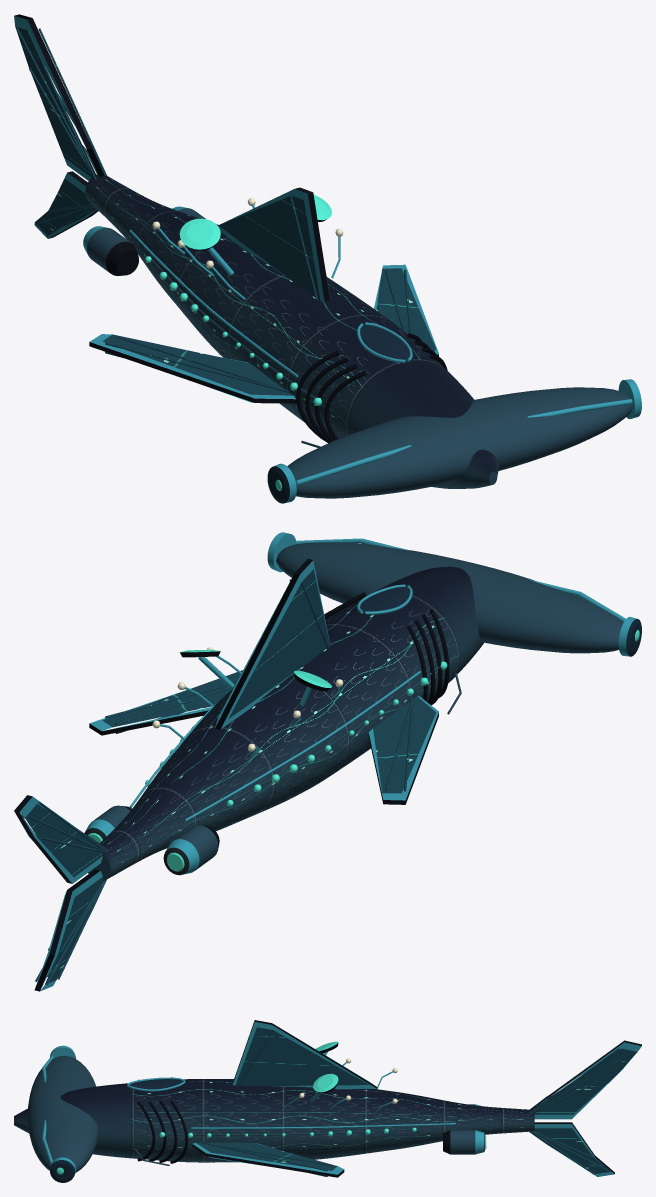
3 views of the same model, one above another, from view 1: azimuth 30°, elevation 25°; view 2: azimuth 150°, elevation 25°; view 3: azimuth 270°, elevation 25° (orthographic). The views are drawn at different scales.
Parts seen in each view (by area): view 1: hammerhead_hull; view 2: hammerhead_hull; view 3: hammerhead_hull.
Boxes of the visible parts, x1,y1,x2,y2 form: hammerhead_hull: (14, 14, 641, 503); hammerhead_hull: (14, 532, 641, 991); hammerhead_hull: (14, 1020, 641, 1182).
Size of the model in its own units: 34.14 by 21.29 by 78.
Materials: 1 (1 with a texture image).
